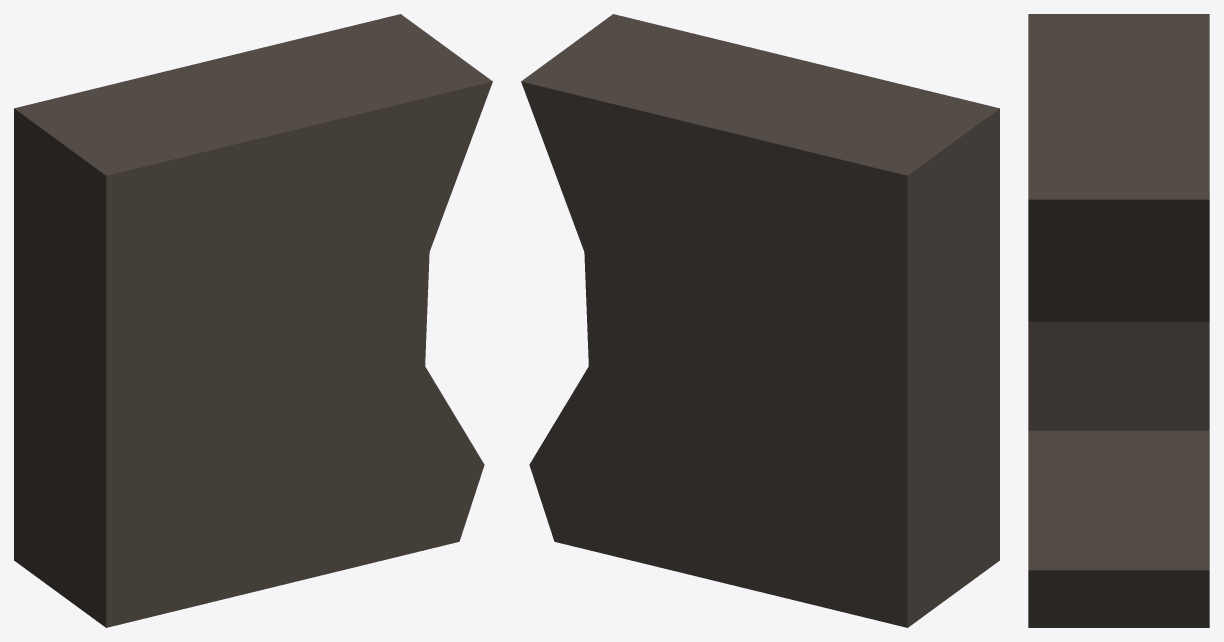
The model's file is AssaultRifle2_02_3.fbx.
3 views of the same model, side by side, from view 1: azimuth 30°, elevation 25°; view 2: azimuth 150°, elevation 25°; view 3: azimuth 270°, elevation 25° (orthographic).
Parts seen in each view (by area): view 1: AssaultRifle2_02_3; view 2: AssaultRifle2_02_3; view 3: AssaultRifle2_02_3.
Boxes of the visible parts, x1,y1,x2,y2 form: AssaultRifle2_02_3: (14, 14, 492, 627); AssaultRifle2_02_3: (521, 14, 999, 627); AssaultRifle2_02_3: (1028, 14, 1209, 627).
Size of the model in its own units: 0.0253 by 0.0282 by 0.0104.
